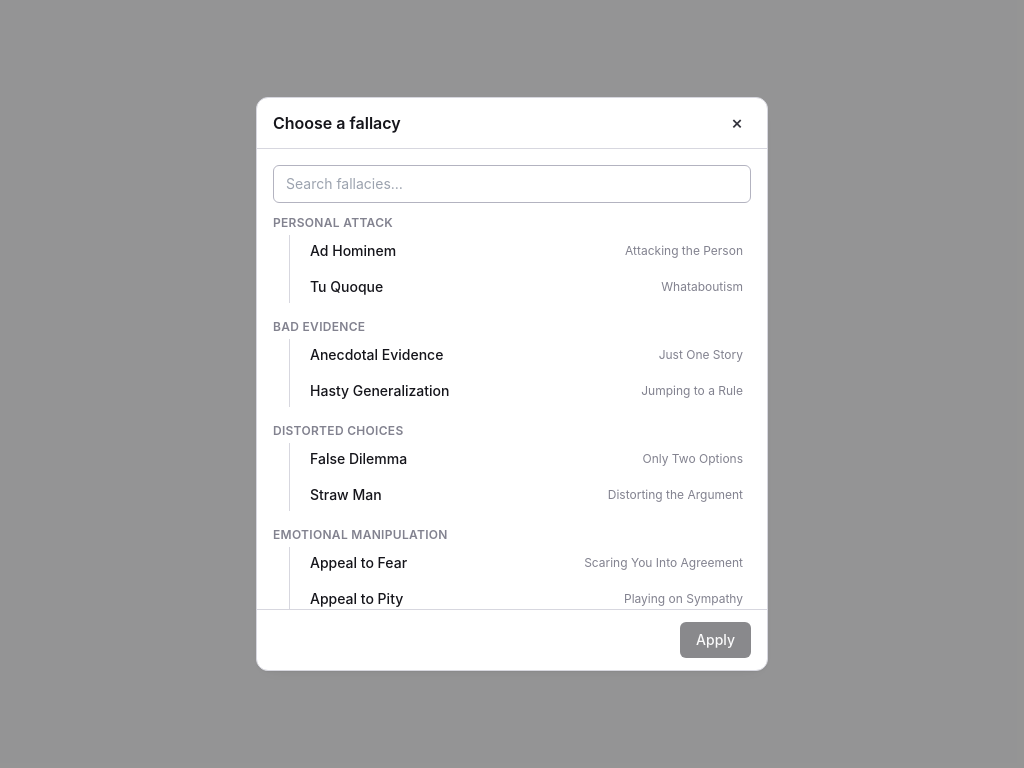
Scenario: FallacyPicker › filters fallacies by search
Type "straw" into the search field labelled "Search fallacies" at (512, 184), box x1=273 y1=165 x2=751 y2=203
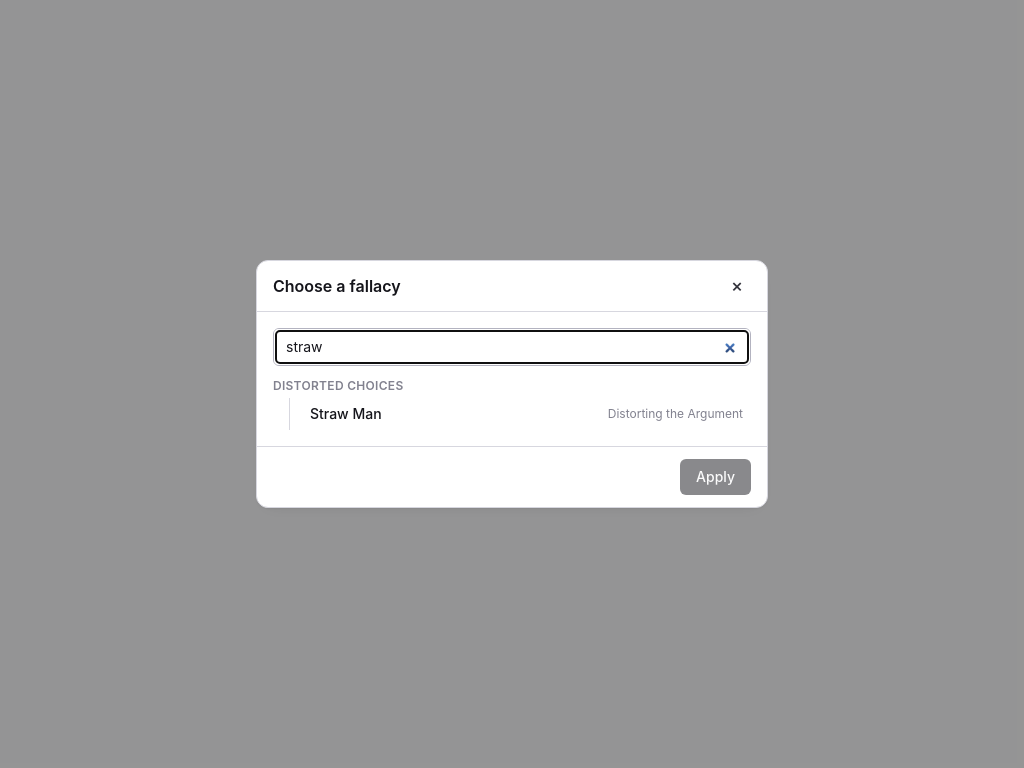
Expected: the button "Straw Man Distorting the Argument" is shown, x1=302 y1=398 x2=751 y2=430
Now the button "Ad Hominem" is gone
